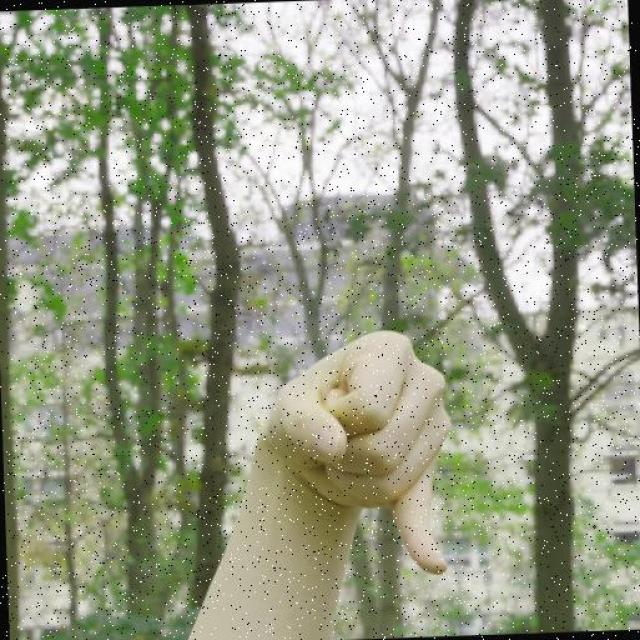J: (179, 302, 522, 632)
